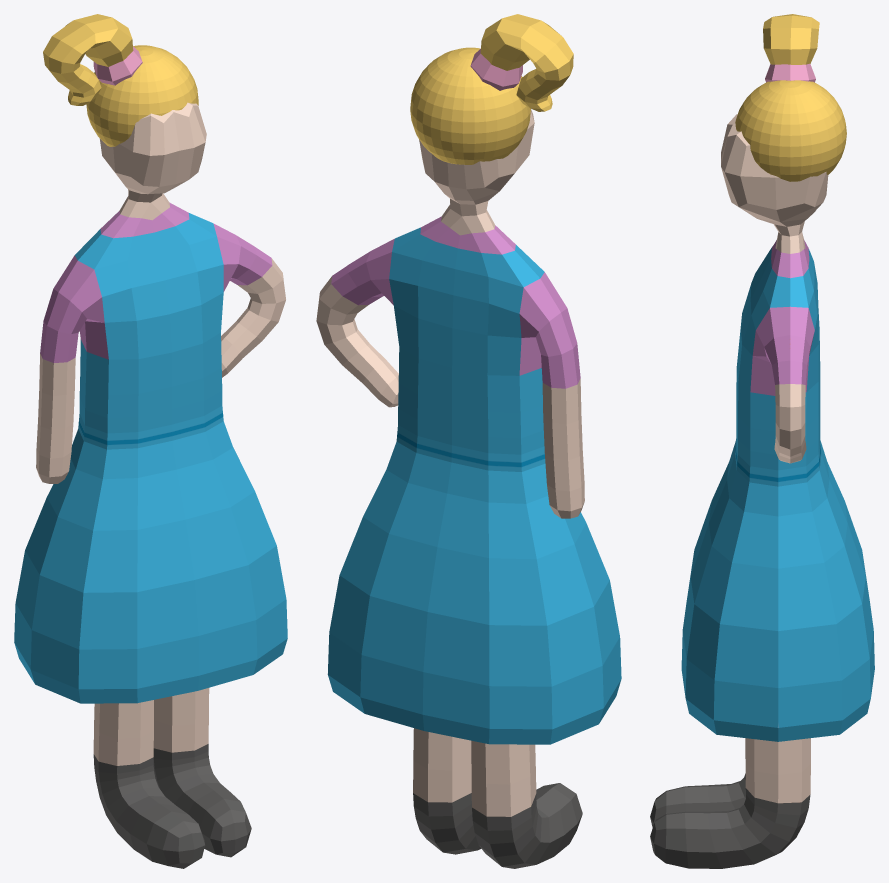
The model's file is Girl.fbx.
3 views of the same model, side by side, from view 1: azimuth 30°, elevation 25°; view 2: azimuth 150°, elevation 25°; view 3: azimuth 270°, elevation 25° (orthographic). The views are drawn at different scales.
Visible parts, largest first — view 1: Girl, Hair, Ponytail Hair, Ponytail; view 2: Girl, Hair, Ponytail Hair, Ponytail; view 3: Girl, Hair, Ponytail Hair, Ponytail.
Part boxes in pixels (box(x1,y1,x2,y2)): Girl: box(14, 102, 287, 868); Hair: box(86, 45, 198, 146); Ponytail Hair: box(43, 14, 133, 105); Ponytail: box(93, 46, 142, 85); Girl: box(316, 109, 621, 868); Hair: box(410, 47, 530, 164); Ponytail Hair: box(480, 14, 573, 111); Ponytail: box(470, 49, 522, 90); Girl: box(650, 114, 874, 868); Hair: box(735, 80, 846, 181); Ponytail Hair: box(763, 14, 819, 64); Ponytail: box(765, 63, 815, 82).
Bounding box in the file's own units: 9.84 × 29.28 × 7.36.
3 materials, 1 textured.
